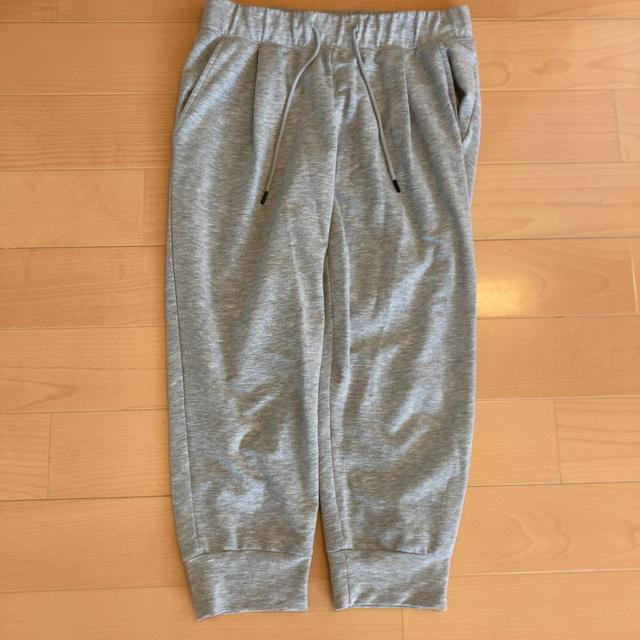long-pants: (165, 0, 480, 618)
